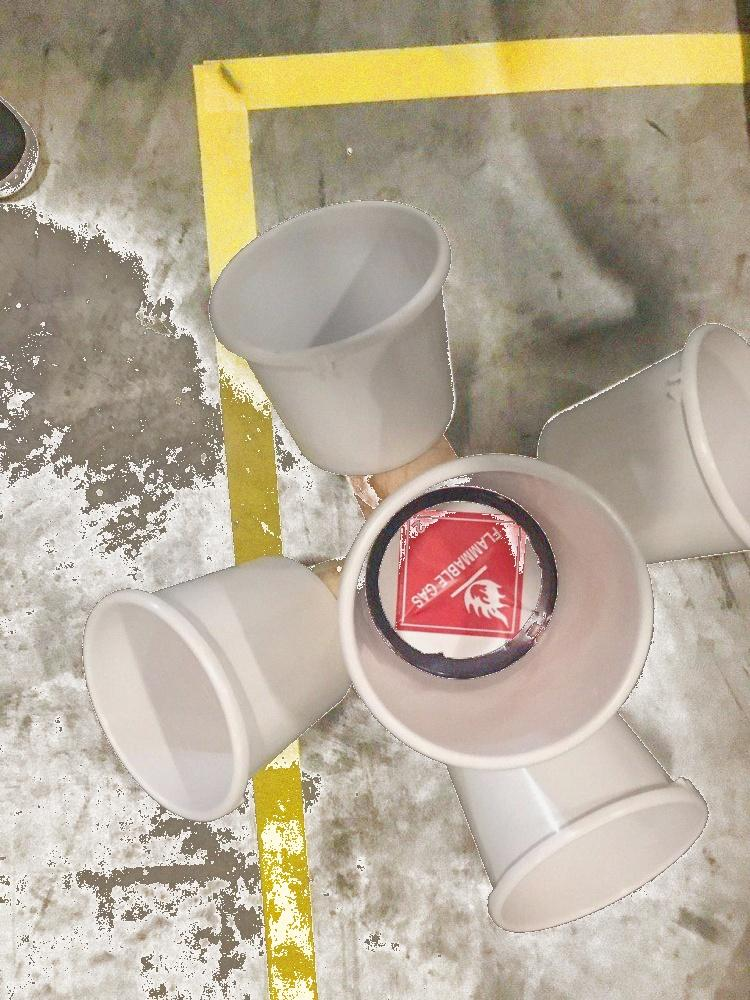flammable: (394, 515, 526, 635)
